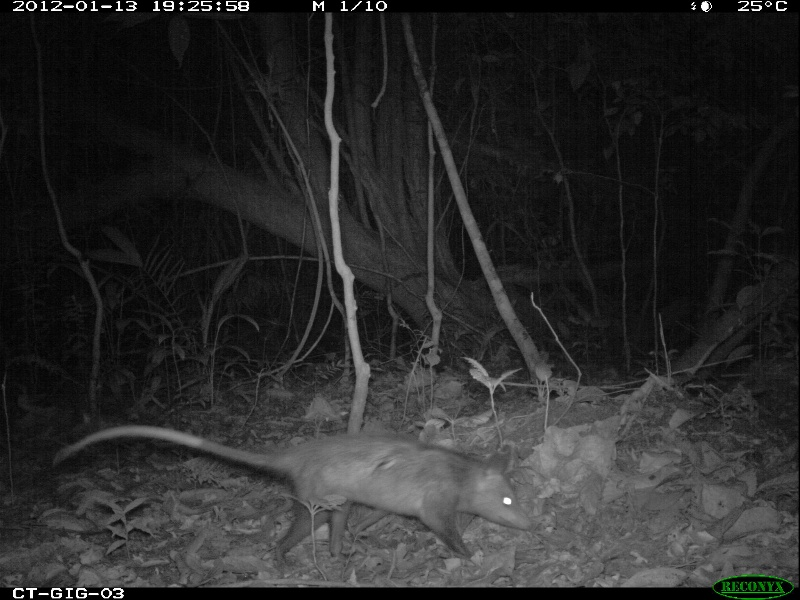opossum: (55, 426, 540, 562)
